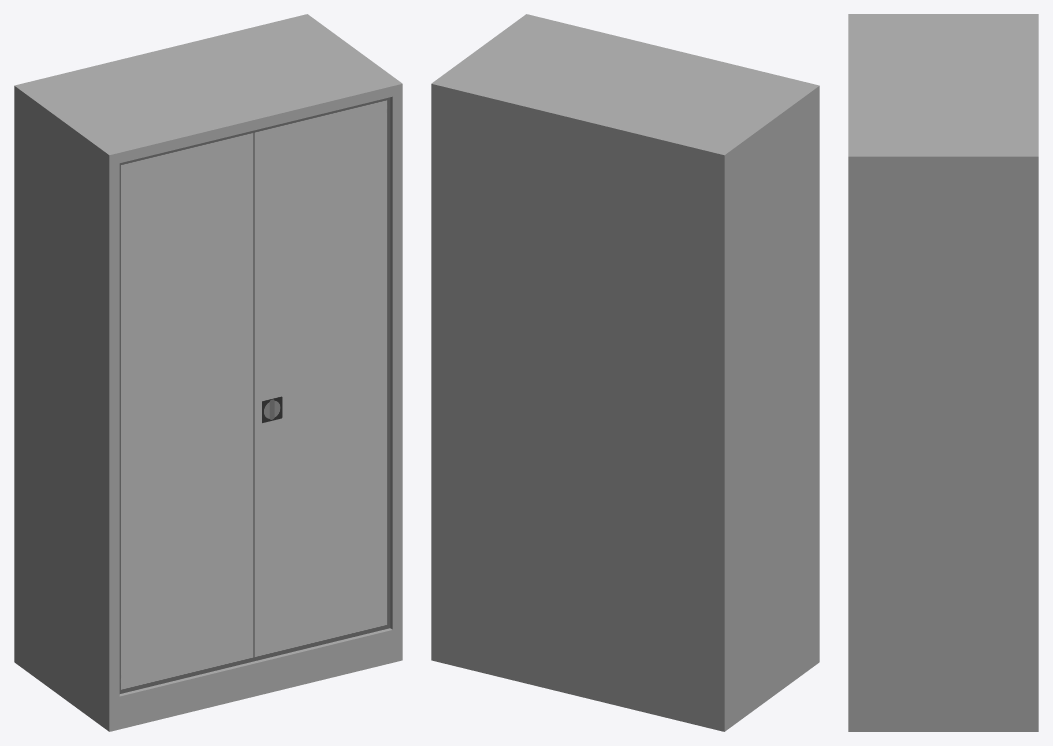
Rendered from CabinetLarge.fbx.
3 renders of one model, left to right at view 1: azimuth 30°, elevation 25°; view 2: azimuth 150°, elevation 25°; view 3: azimuth 270°, elevation 25°, orthographic.
Parts seen in each view (by area): view 1: Cabinet; view 2: Cabinet; view 3: Cabinet.
Part boxes in pixels (bbox=[...]): Cabinet: bbox=[14, 14, 402, 731]; Cabinet: bbox=[431, 14, 819, 731]; Cabinet: bbox=[848, 14, 1038, 731].
Bounding box in the file's own units: 192 × 361 × 108.
